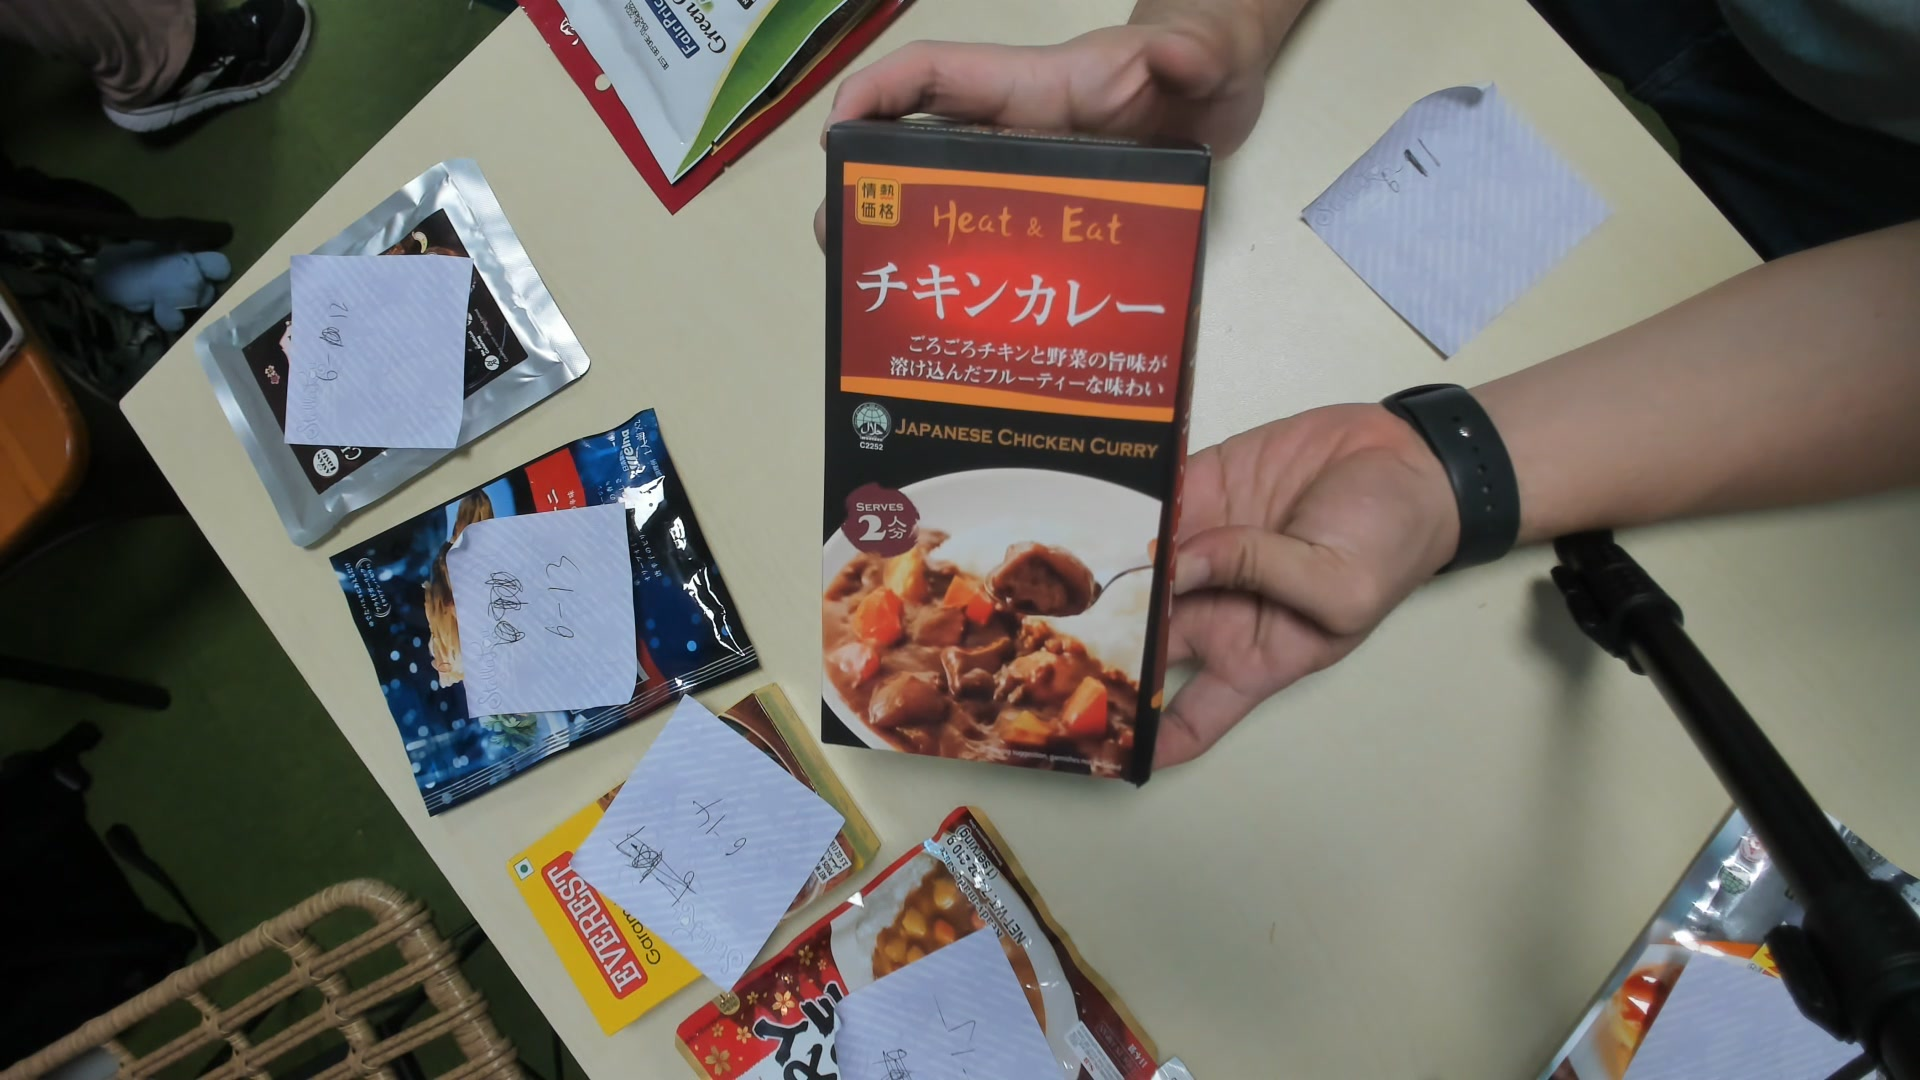CurryPastePowderSauce_200-299g_Halal_NonHealthy: (818, 115, 1205, 775)
